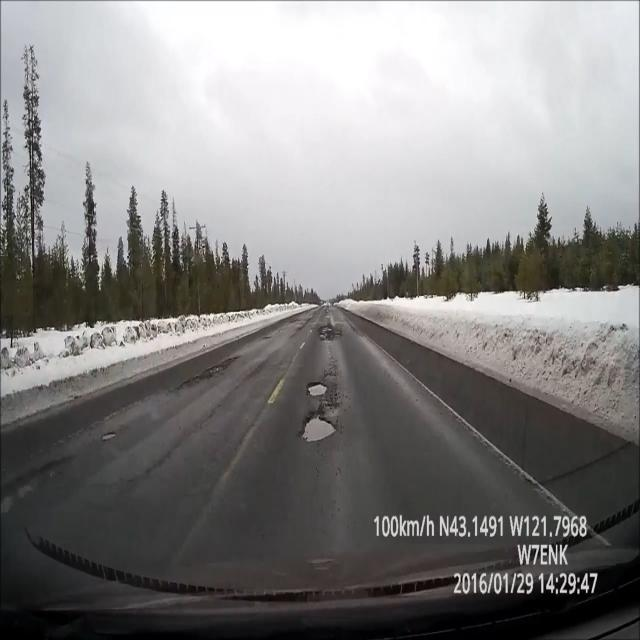Pothole: (299, 374, 342, 460), (316, 320, 341, 348)
